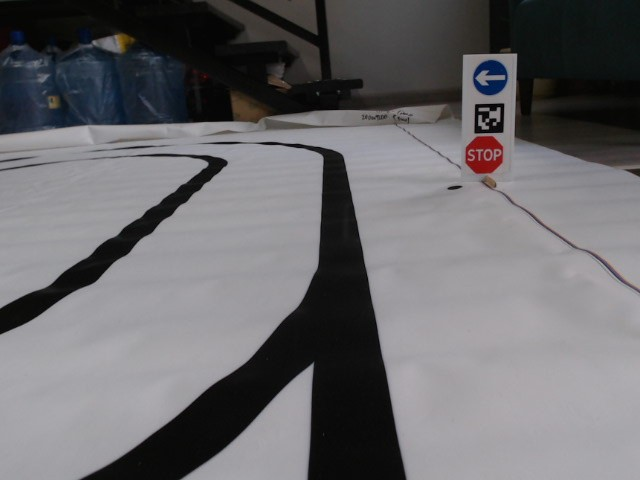Stop: (465, 134, 503, 174)
